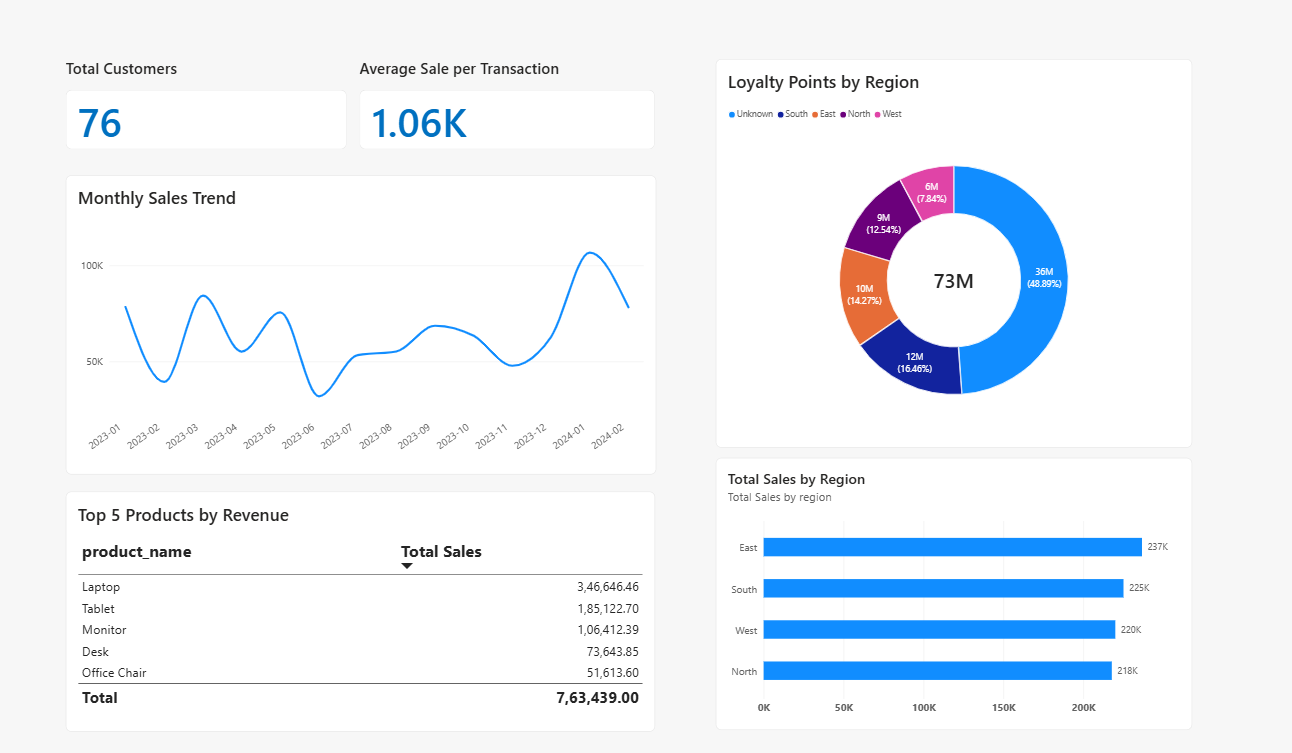

The page's visual inventory and layout, read from the dashboard file:
{"tool":"powerbi","page":{"name":"Page 1","canvas":[1920,1080],"ordinal":0},"visuals":[{"type":"lineChart","title":"Monthly Sales Trend","fields":{"Category":["Sales.YearMonth"],"Y":["Sales.Total Sales"]},"box":[123,252.7,823.9,417.8],"z":1},{"type":"clusteredBarChart","title":"Total Sales by Region","fields":{"Category":["Sales.region"],"Y":["Sales.Total Sales"]},"box":[1030.8,646.4,665,380.2],"z":2},{"type":"tableEx","title":"Top 5 Products by Revenue","fields":{"Values":["Sales.product_name","Sales.Total Sales"]},"box":[124.7,694.2,822.2,335.3],"z":3},{"type":"cardVisual","title":"Total Customers","fields":{"Data":["Sales.Total Customers"]},"box":[123,89.3,392.6,128],"z":4},{"type":"cardVisual","title":"Average Sale per Transaction","fields":{"Data":["Sales.Average Sale per Transaction"]},"box":[534.1,89.3,412.8,128],"z":5},{"type":"donutChart","title":"Loyalty Points by Region","fields":{"Category":["Customers.Region"],"Y":["Sales.Total Loyalty Points"]},"box":[1030.8,89.9,665,542.7],"z":6}]}

Visuals, with their boxes on the page's 1920x1080 design canvas (x1, y1, x2, y2). These are canvas units, not pixel positions in the 1292x753 screenshot, which may show the page scaled, cropped or inside an application window:
"Monthly Sales Trend" lineChart: region(123, 253, 947, 670)
"Total Sales by Region" clusteredBarChart: region(1031, 646, 1696, 1027)
"Top 5 Products by Revenue" tableEx: region(125, 694, 947, 1030)
"Total Customers" cardVisual: region(123, 89, 516, 217)
"Average Sale per Transaction" cardVisual: region(534, 89, 947, 217)
"Loyalty Points by Region" donutChart: region(1031, 90, 1696, 633)
